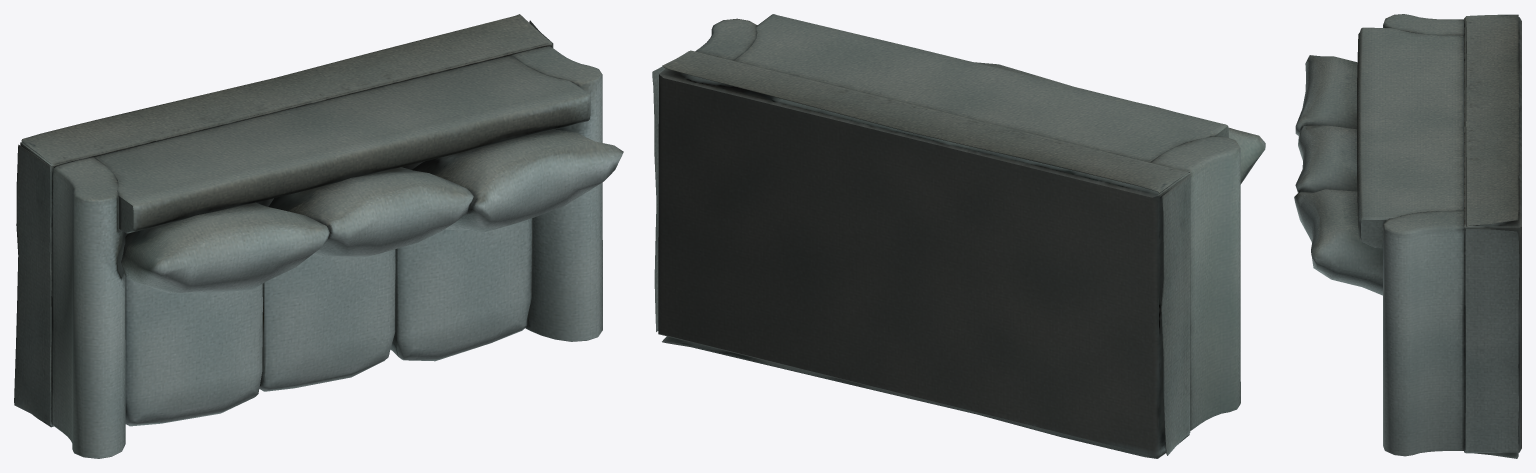
Rendered from HSM0012.obj.
3 views of the same model, side by side, from view 1: azimuth 30°, elevation 25°; view 2: azimuth 150°, elevation 25°; view 3: azimuth 270°, elevation 25° (orthographic). The views are drawn at different scales.
Parts seen in each view (by area): view 1: CasualSofa_834236_Stone_Gray__CasualSofa_834236_Stone_Gray__lowp; view 2: CasualSofa_834236_Stone_Gray__CasualSofa_834236_Stone_Gray__lowp; view 3: CasualSofa_834236_Stone_Gray__CasualSofa_834236_Stone_Gray__lowp.
Part boxes in pixels (left/top/right/bottom): CasualSofa_834236_Stone_Gray__CasualSofa_834236_Stone_Gray__lowp: left=14, top=14, right=623, bottom=458; CasualSofa_834236_Stone_Gray__CasualSofa_834236_Stone_Gray__lowp: left=652, top=14, right=1265, bottom=458; CasualSofa_834236_Stone_Gray__CasualSofa_834236_Stone_Gray__lowp: left=1294, top=14, right=1521, bottom=458.
Bounding box in the file's own units: 211 × 106 × 91.76.
1 material, 1 textured.
